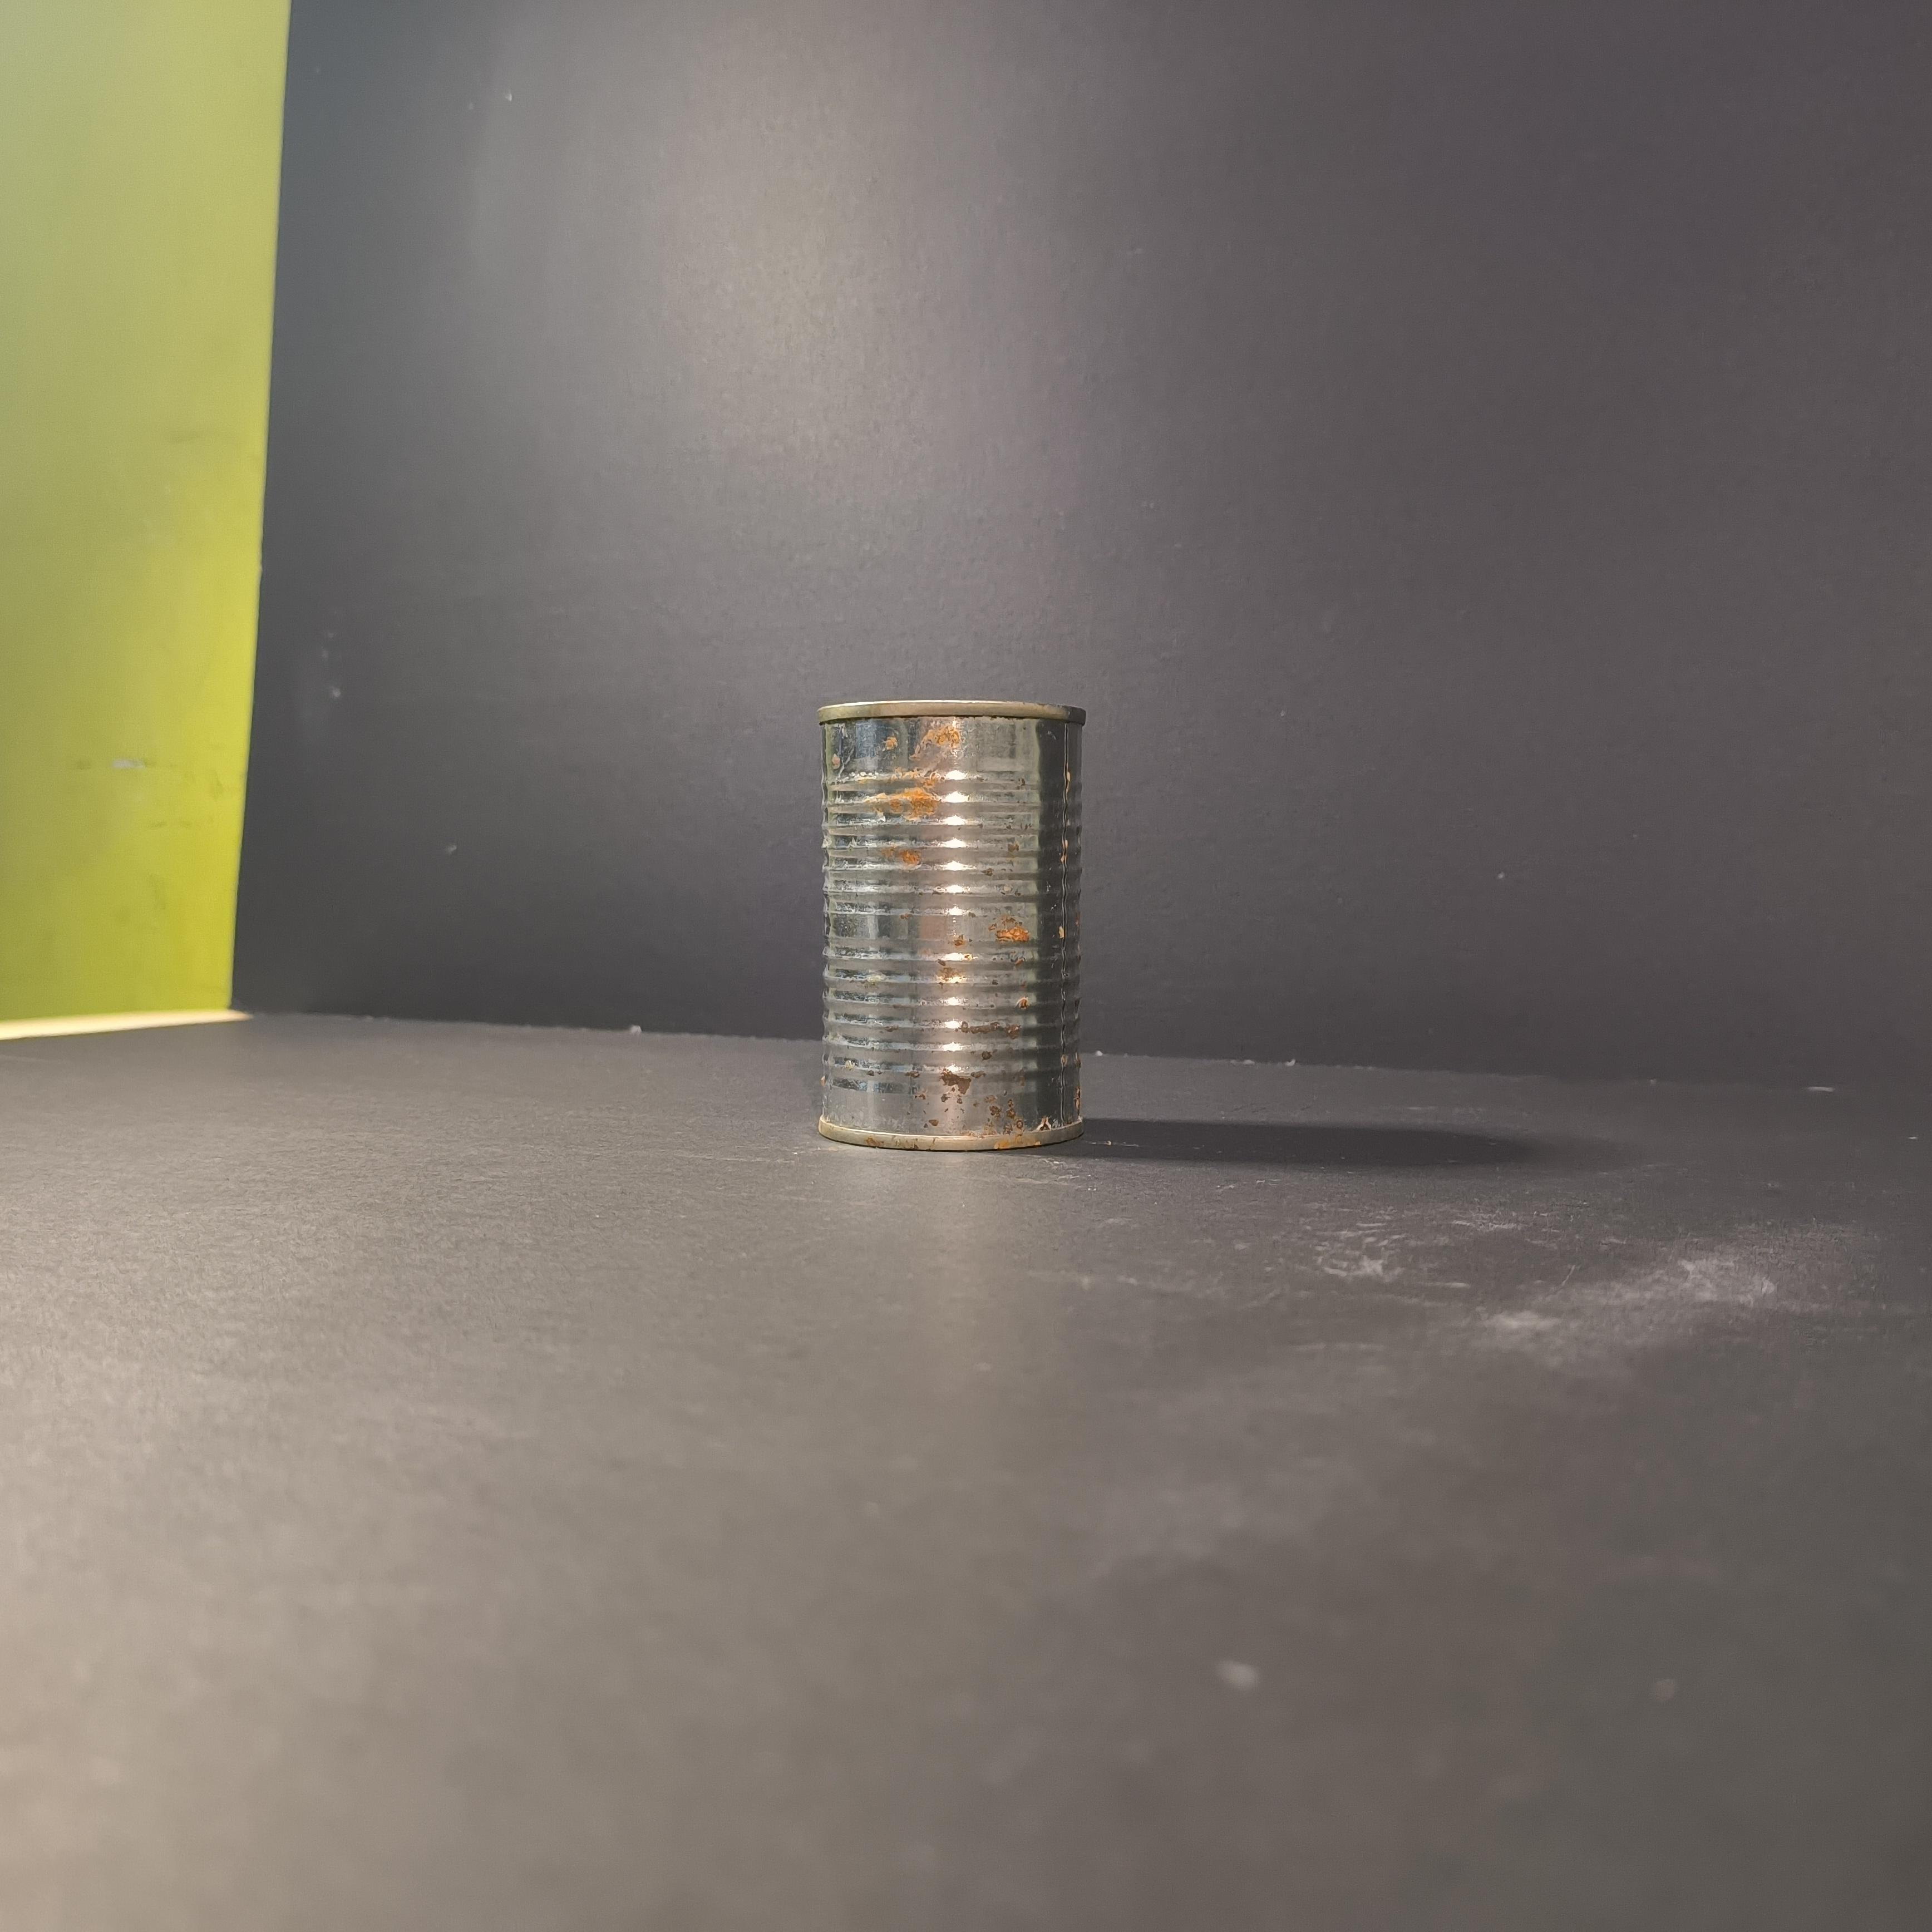Rusted: (803, 674, 1104, 1175)
